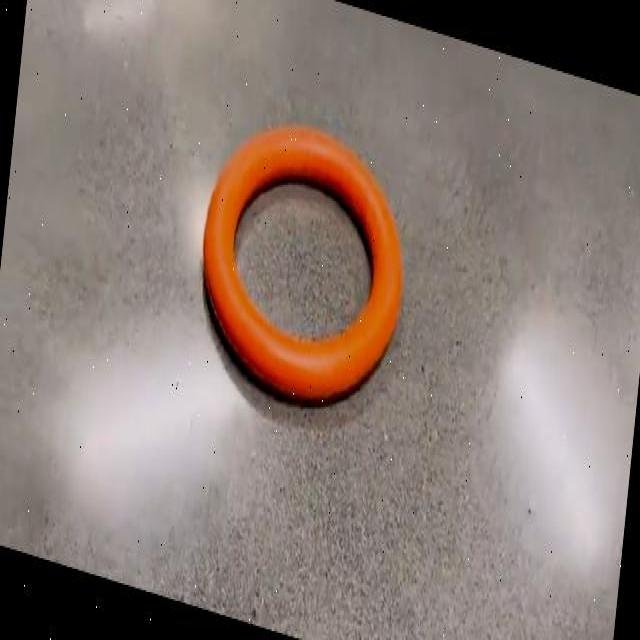note: (203, 126, 403, 399)
